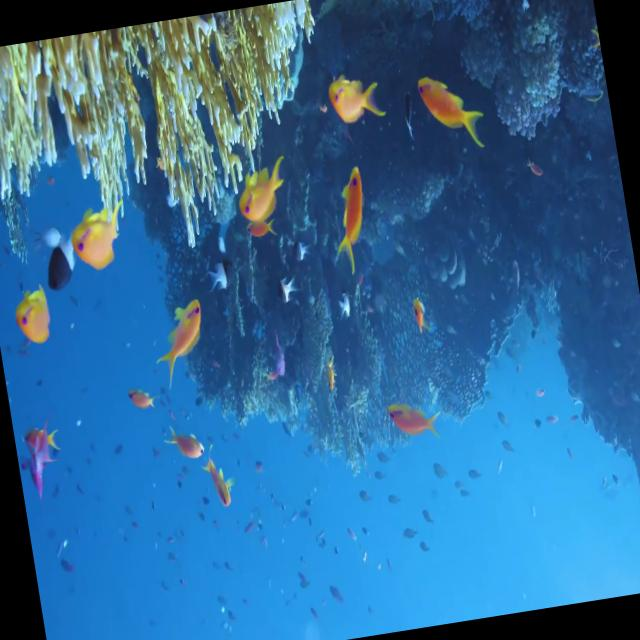fish: (407, 58, 493, 161), (144, 293, 216, 407), (318, 161, 383, 277), (322, 55, 396, 145), (230, 154, 298, 240), (69, 200, 131, 276), (378, 390, 448, 454), (6, 270, 58, 356), (33, 228, 85, 300), (205, 446, 242, 524), (164, 416, 212, 476), (20, 415, 70, 471), (18, 449, 60, 514), (316, 348, 349, 408), (272, 270, 311, 320), (200, 258, 246, 300), (119, 378, 158, 427), (394, 95, 422, 155), (406, 289, 436, 342), (332, 288, 366, 332), (260, 340, 290, 389), (286, 233, 316, 266), (538, 0, 579, 22)
